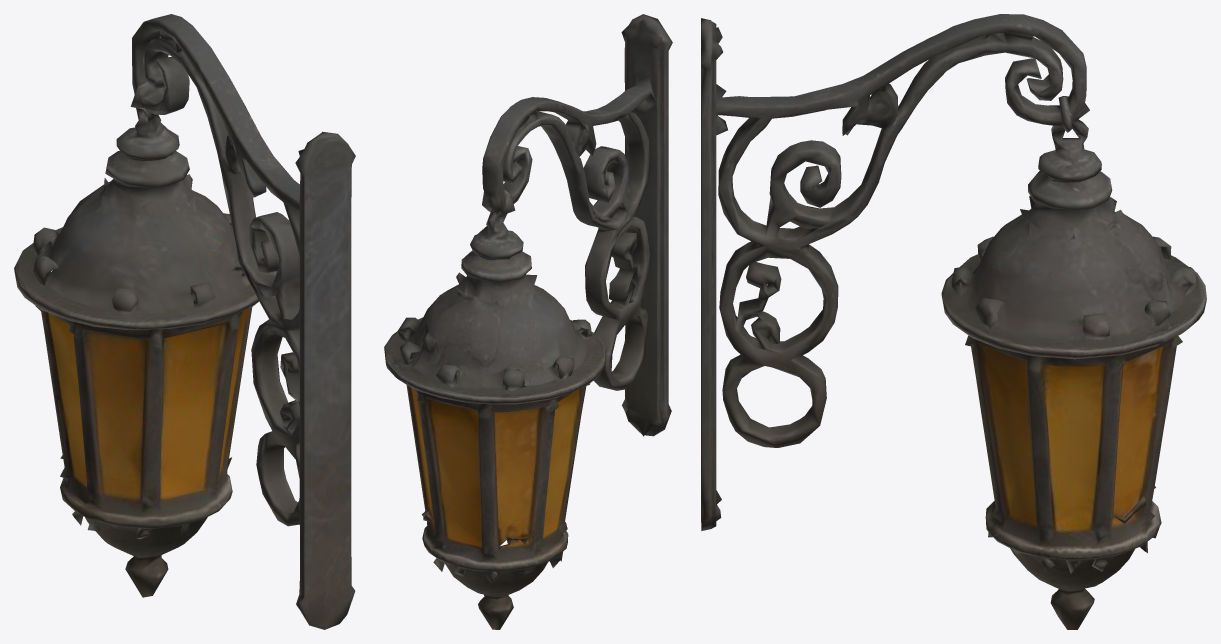
Rendered from wall-lantern.glb.
3 renders of one model, left to right at view 1: azimuth 30°, elevation 25°; view 2: azimuth 150°, elevation 25°; view 3: azimuth 270°, elevation 25°, orthographic. The views are drawn at different scales.
Visible parts, largest first — view 1: tripo_node_ebae2694-f0cf-42ac-86bd-4a7766650d64; view 2: tripo_node_ebae2694-f0cf-42ac-86bd-4a7766650d64; view 3: tripo_node_ebae2694-f0cf-42ac-86bd-4a7766650d64.
Boxes of the visible parts, bbox=[...] form: tripo_node_ebae2694-f0cf-42ac-86bd-4a7766650d64: bbox=[14, 14, 355, 629]; tripo_node_ebae2694-f0cf-42ac-86bd-4a7766650d64: bbox=[384, 14, 672, 629]; tripo_node_ebae2694-f0cf-42ac-86bd-4a7766650d64: bbox=[701, 14, 1206, 629].
Size of the model in its own units: 0.4037 by 1 by 0.7502.
Materials: 1 (1 with a texture image).
